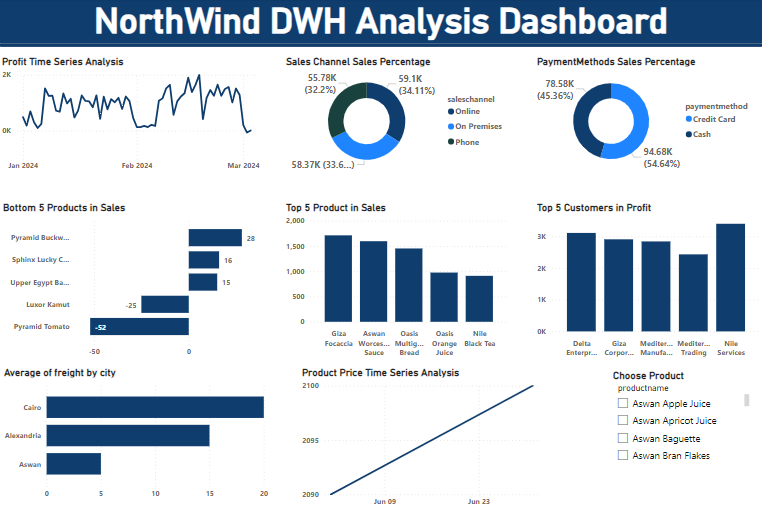

The page's visual inventory and layout, read from the dashboard file:
{"tool":"powerbi","page":{"name":"Page 1","canvas":[1280,900],"ordinal":0},"visuals":[{"type":"shape","title":"NorthWind DWH Analysis Dashboard","box":[7,3.3,1270,78.3],"z":0},{"type":"lineChart","title":"Profit Time Series Analysis","fields":{"Y":["Sum(public factorder.profit)"],"Category":["public dimdate.fulldate"]},"box":[5.7,95.7,451.4,202.9],"z":1000},{"type":"donutChart","title":"Sales Channel Sales Percentage ","fields":{"Category":["public dimpaymethodsalechannel.saleschannel"],"Y":["Sum(public factorder.totalprice)"]},"box":[478.6,95.7,380,201.4],"z":2000},{"type":"donutChart","title":"PaymentMethods Sales Percentage ","fields":{"Y":["Sum(public factorder.totalprice)"],"Category":["public dimpaymethodsalechannel.paymentmethod"]},"box":[897.1,95.7,380,201.4],"z":3000},{"type":"columnChart","title":"Top 5 Product in Sales","fields":{"Category":["public dimproduct.productname"],"Y":["Sum(public factorder.profit)"]},"box":[478.3,338.3,380,268.3],"z":4000},{"type":"barChart","title":"Bottom 5 Products in Sales","fields":{"Category":["public dimproduct.productname"],"Y":["Sum(public factorder.profit)"]},"box":[6.7,338.3,450,268.3],"z":5000},{"type":"columnChart","title":"Top 5 Customers in Profit","fields":{"Y":["Sum(public factorder.profit)"],"Category":["public dimcustomer.companyname"]},"box":[896.7,338.3,383.3,268.3],"z":6000},{"type":"lineChart","title":"Product Price Time Series Analysis","fields":{"Category":["public dimdate.fulldate"],"Y":["Sum(public dimproductpricemini.unitprice)"]},"box":[503.8,620,413.5,244.2],"z":7000},{"type":"slicer","title":"Choose Product","fields":{"Values":["public dimproduct.productname"]},"box":[1023.3,620.9,236.7,160],"z":8000},{"type":"barChart","fields":{"Y":["Avg(public factorder.freight)"],"Category":["public dimcustomer.city"]},"box":[7.7,620,450,230.8],"z":9000}]}

Visuals, with their boxes on the page's 1280x900 design canvas (x1, y1, x2, y2). These are canvas units, not pixel positions in the 762x506 screenshot, which may show the page scaled, cropped or inside an application window:
"NorthWind DWH Analysis Dashboard" shape: box(7, 3, 1277, 82)
"Profit Time Series Analysis" lineChart: box(6, 96, 457, 299)
"Sales Channel Sales Percentage " donutChart: box(479, 96, 859, 297)
"PaymentMethods Sales Percentage " donutChart: box(897, 96, 1277, 297)
"Top 5 Product in Sales" columnChart: box(478, 338, 858, 607)
"Bottom 5 Products in Sales" barChart: box(7, 338, 457, 607)
"Top 5 Customers in Profit" columnChart: box(897, 338, 1280, 607)
"Product Price Time Series Analysis" lineChart: box(504, 620, 917, 864)
"Choose Product" slicer: box(1023, 621, 1260, 781)
barChart - Avg(public factorder.freight) x public dimcustomer.city: box(8, 620, 458, 851)
